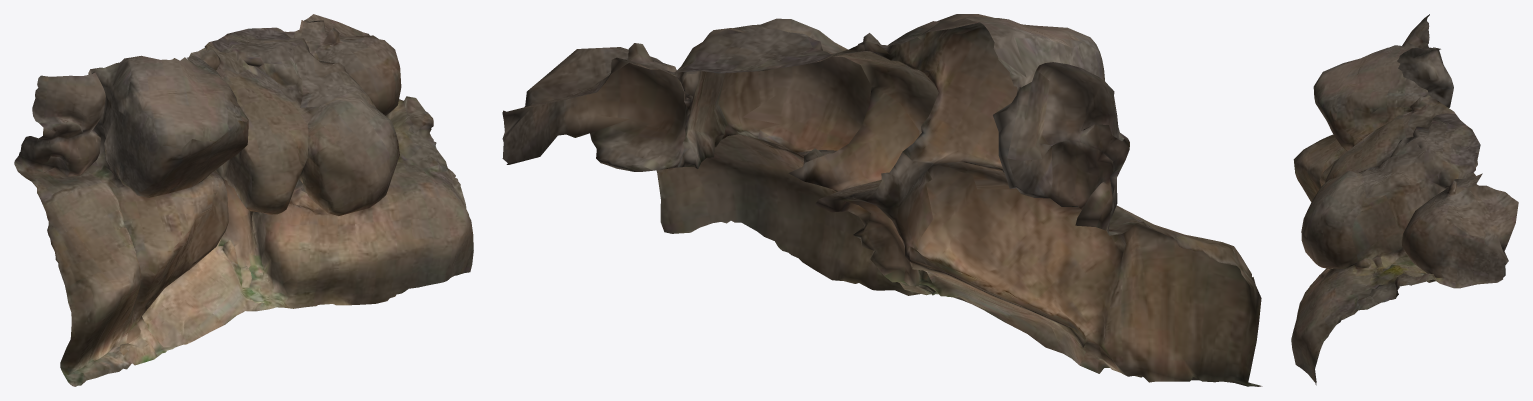
The picture shows the model from 3 angles, left to right: view 1: azimuth 30°, elevation 25°; view 2: azimuth 150°, elevation 25°; view 3: azimuth 270°, elevation 25°; orthographic projection. The views are drawn at different scales.
Visible parts, largest first — view 1: drone_rock_01; view 2: drone_rock_01; view 3: drone_rock_01.
Part boxes in pixels (x1,y1,x2,y2): drone_rock_01: [14, 14, 473, 386]; drone_rock_01: [502, 14, 1262, 386]; drone_rock_01: [1291, 14, 1518, 385].
Size of the model in its own units: 8.28 by 4.95 by 4.39.
1 material, 1 textured.
